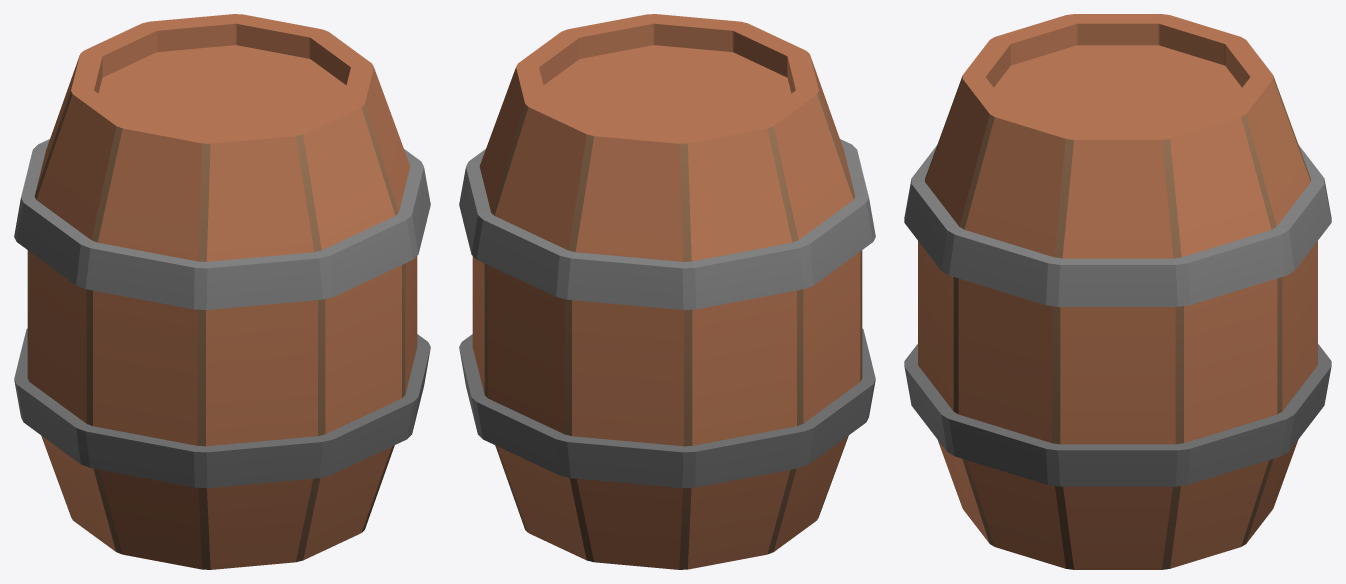
Rendered from barrel 2.fbx.
3 renders of one model, left to right at view 1: azimuth 30°, elevation 25°; view 2: azimuth 150°, elevation 25°; view 3: azimuth 270°, elevation 25°, orthographic.
Parts seen in each view (by area): view 1: barrel 2; view 2: barrel 2; view 3: barrel 2.
Part boxes in pixels (x1,y1,x2,y2): barrel 2: [14, 14, 430, 569]; barrel 2: [459, 14, 875, 569]; barrel 2: [904, 14, 1331, 569].
Size of the model in its own units: 78.38 by 90.65 by 81.61.
